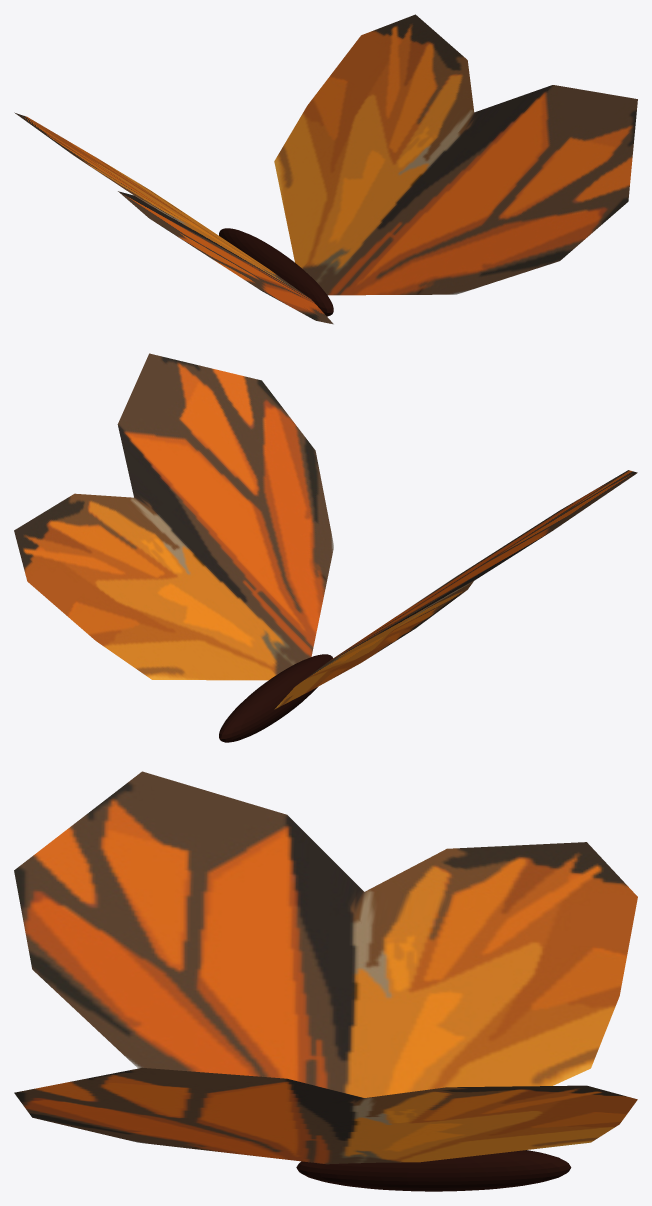
Rendered from butterfly.fbx.fbx.
3 renders of one model, top to bottom at view 1: azimuth 30°, elevation 25°; view 2: azimuth 150°, elevation 25°; view 3: azimuth 270°, elevation 25°, orthographic. The views are drawn at different scales.
Parts seen in each view (by area): view 1: Wing_L, Wing_R, Body; view 2: Wing_L, Wing_R, Body; view 3: Wing_R, Wing_L, Body.
Part boxes in pixels (x1,y1,x2,y2): Wing_L: [274, 14, 637, 295]; Wing_R: [14, 112, 333, 324]; Body: [219, 228, 333, 316]; Wing_L: [14, 353, 333, 680]; Wing_R: [274, 470, 637, 709]; Body: [219, 654, 332, 742]; Wing_R: [14, 771, 637, 1097]; Wing_L: [14, 1067, 637, 1164]; Body: [296, 1150, 571, 1191].
Size of the model in its own units: 3.16 by 1.34 by 2.81.
